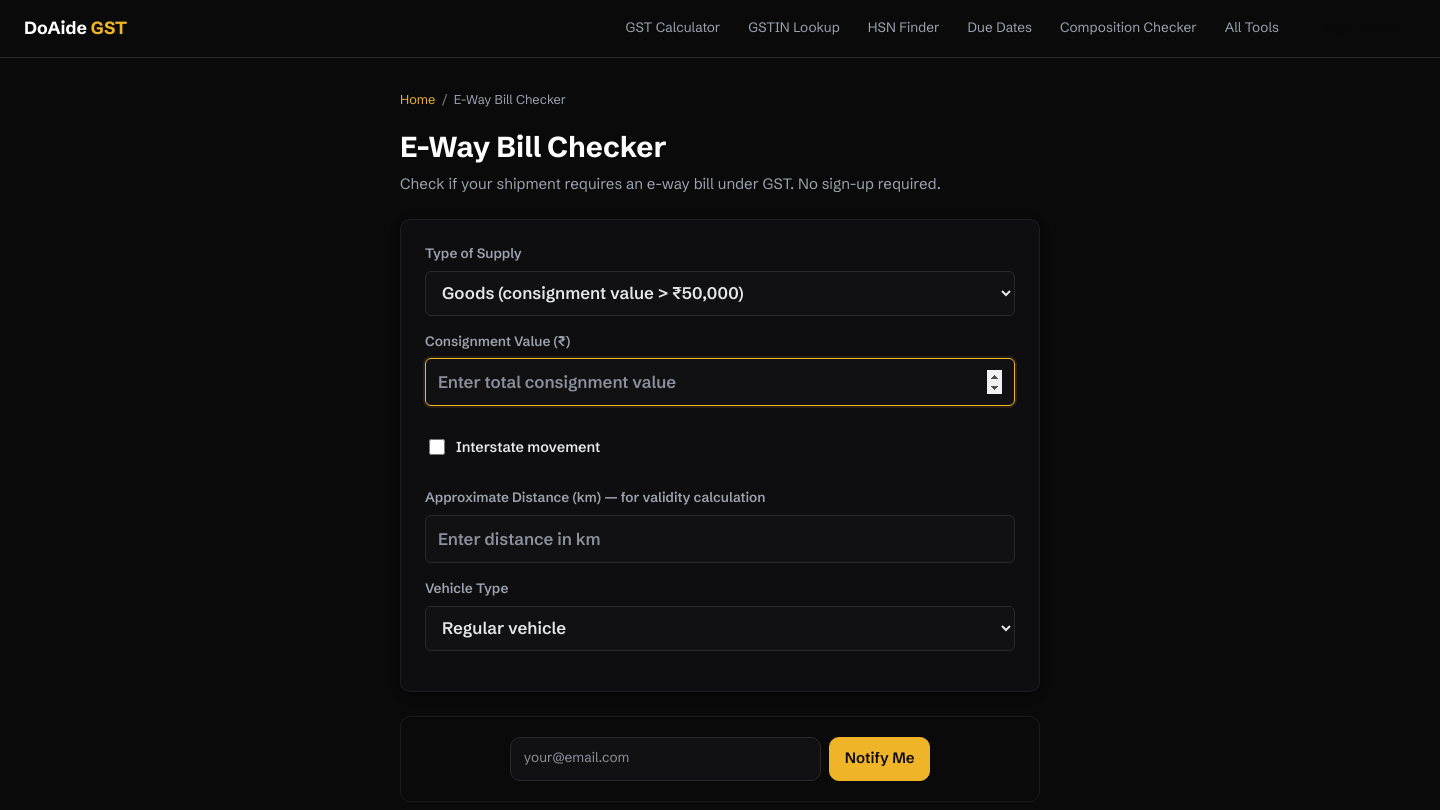
Test: EwayBillPage › shows required for job work regardless of value
Select "Job work (principal to job worker)" in the dropdown labelled "Type of Supply" at x=720, y=293, box [425,271,1015,316]
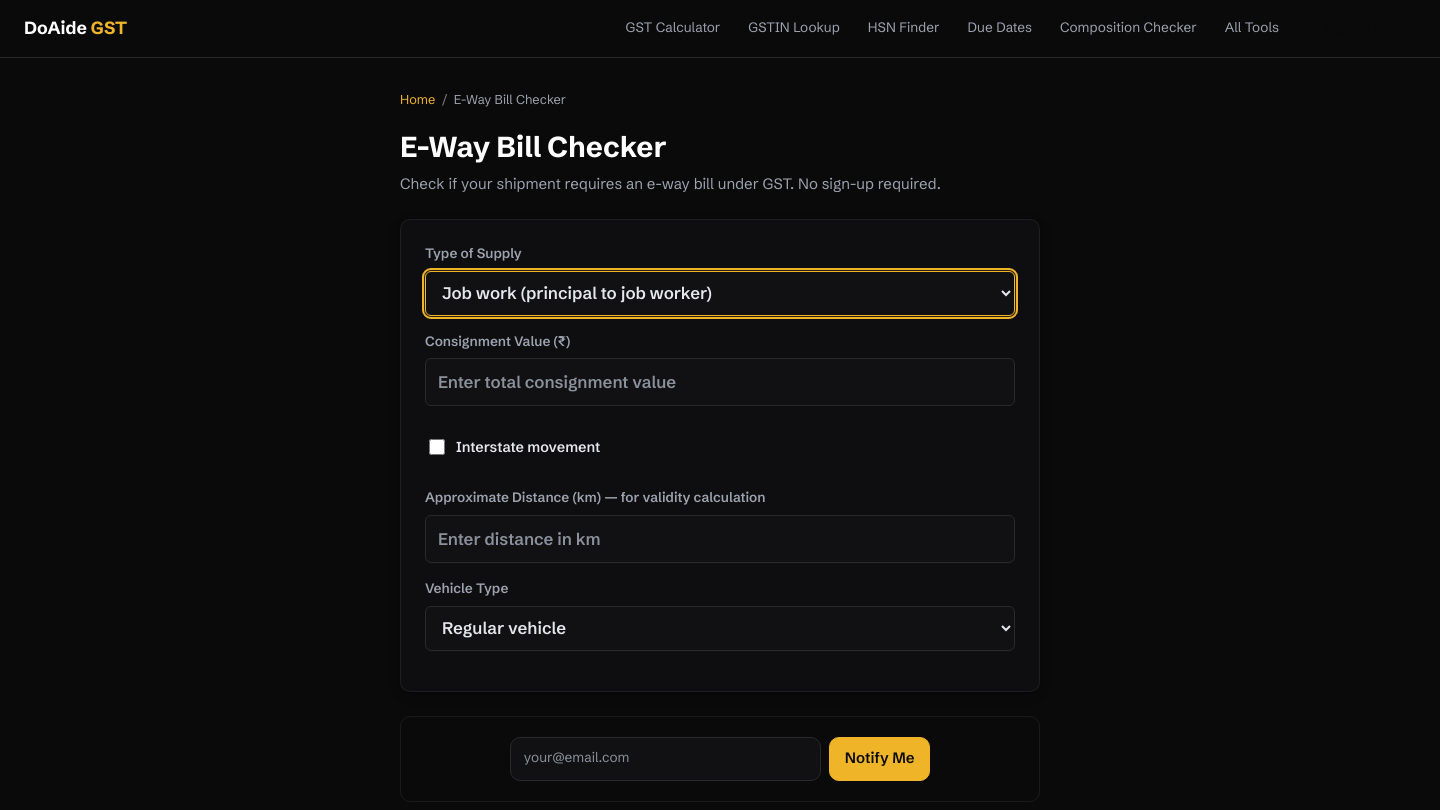
Type "1000" into the number field with placeholder "Enter total consignment value".
click(720, 382); type("1000")  # box [425,358,1015,406]
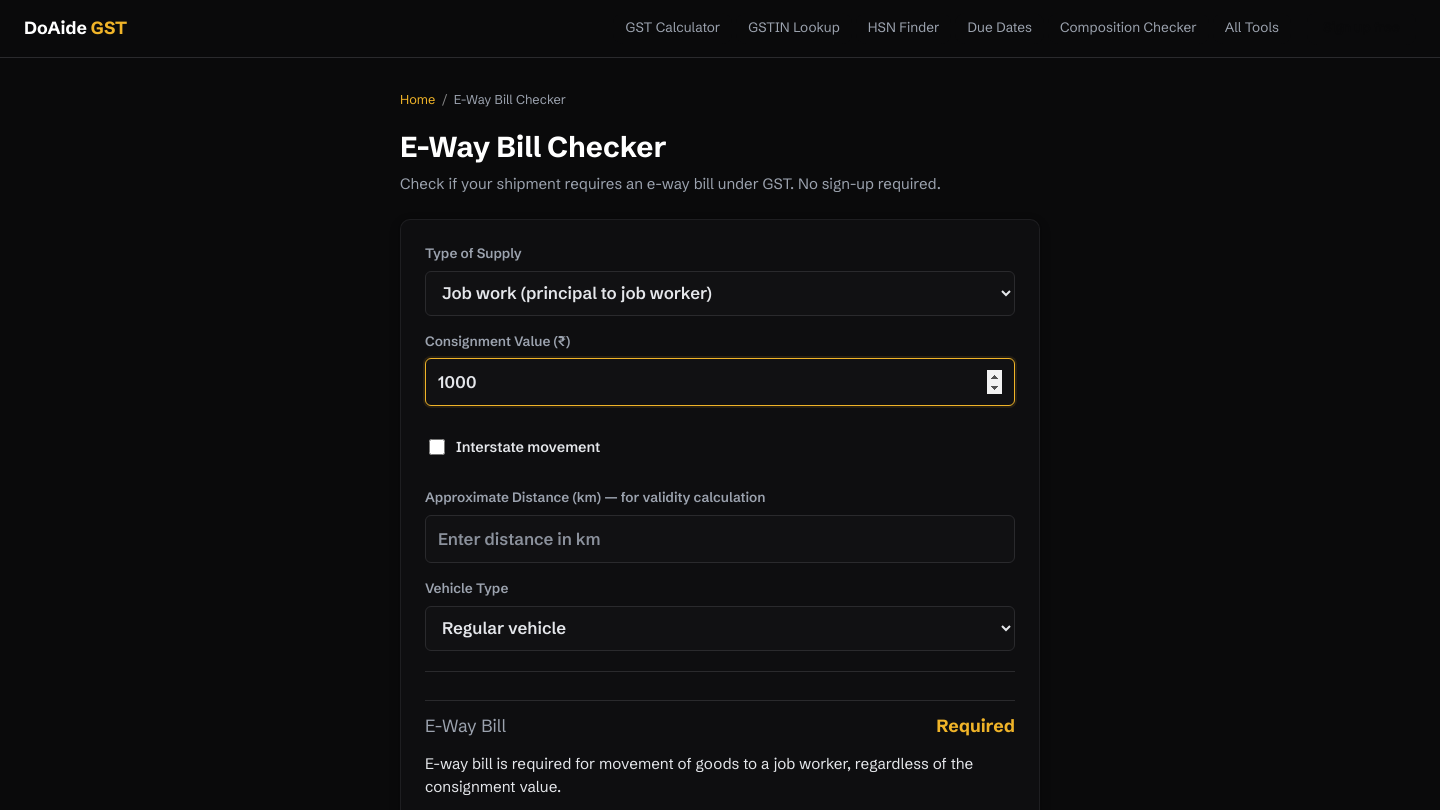
expect the text "Required" is shown: met, box [936,713,1015,739]
expect the text "regardless of the consignment value" is shown: met, box [425,754,973,796]
